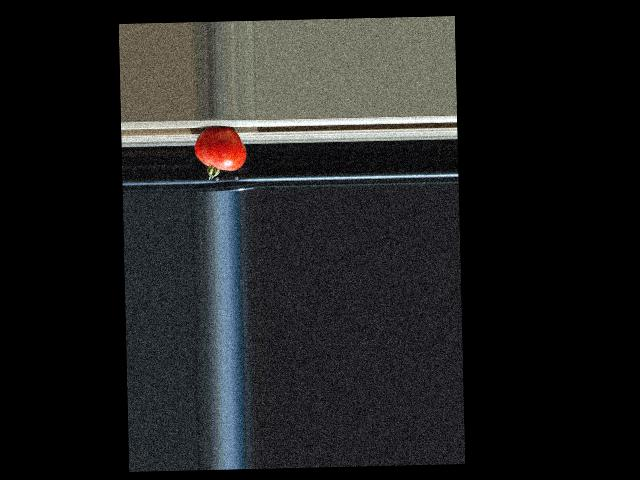tomato: (194, 127, 246, 180)
